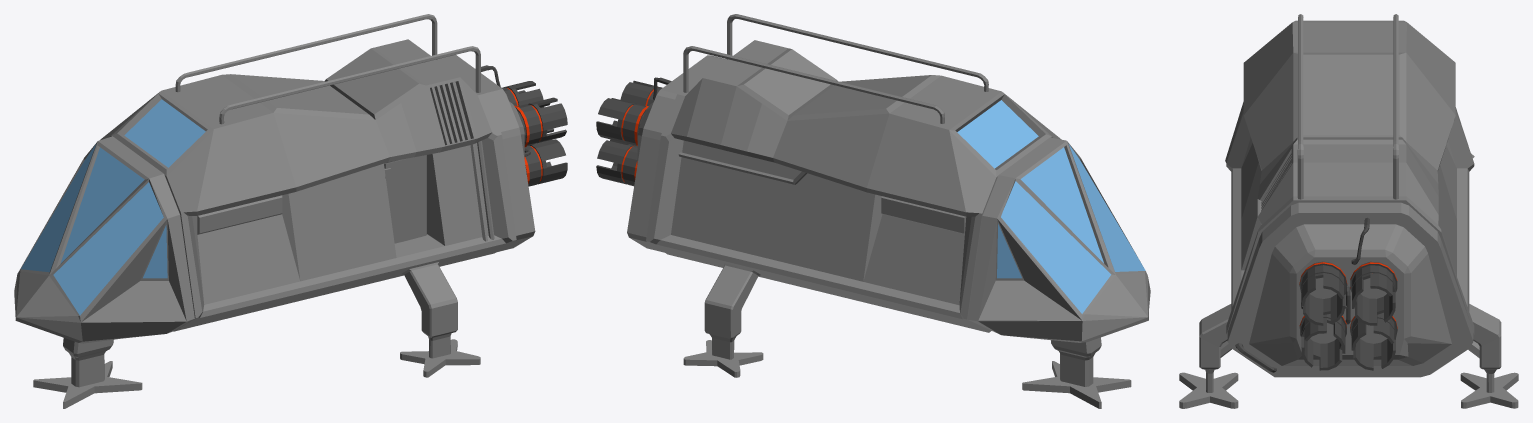
Rendered from testship.fbx.
The picture shows the model from 3 angles, left to right: view 1: azimuth 30°, elevation 25°; view 2: azimuth 150°, elevation 25°; view 3: azimuth 270°, elevation 25°; orthographic projection. The views are drawn at different scales.
Visible parts, largest first — view 1: Cube, Cube.001, Cube.003; view 2: Cube, Cube.001, Cube.003; view 3: Cube, Cube.003.
Part boxes in pixels (bbox=[...]): Cube: bbox=[100, 14, 516, 377]; Cube.001: bbox=[14, 136, 194, 408]; Cube.003: bbox=[439, 55, 567, 251]; Cube: bbox=[646, 14, 1061, 377]; Cube.001: bbox=[968, 137, 1150, 408]; Cube.003: bbox=[596, 55, 724, 252]; Cube: bbox=[1179, 14, 1518, 408]; Cube.003: bbox=[1227, 202, 1473, 377].
Bounding box in the file's own units: 2401 × 1168 × 1223.
